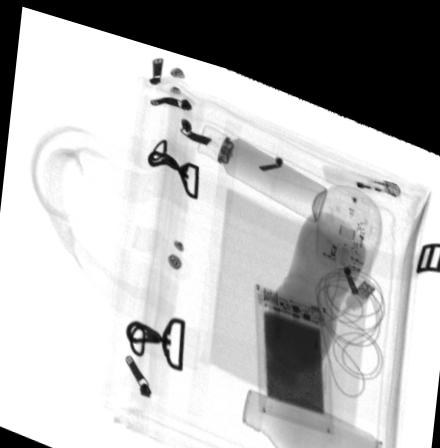Lighter: (322, 143, 401, 178)
Powerbank: (254, 268, 334, 415)
Sprayer: (199, 112, 327, 203)
